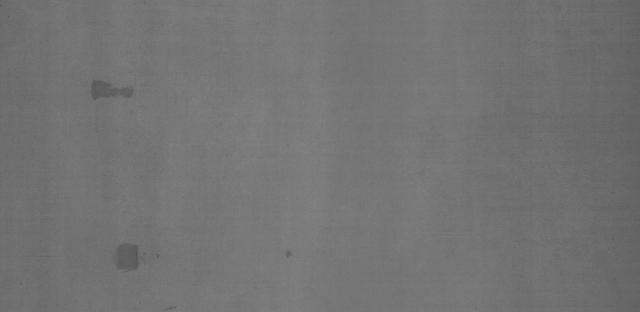oil_spot: (111, 236, 147, 274), (90, 75, 143, 100), (280, 245, 298, 261)
